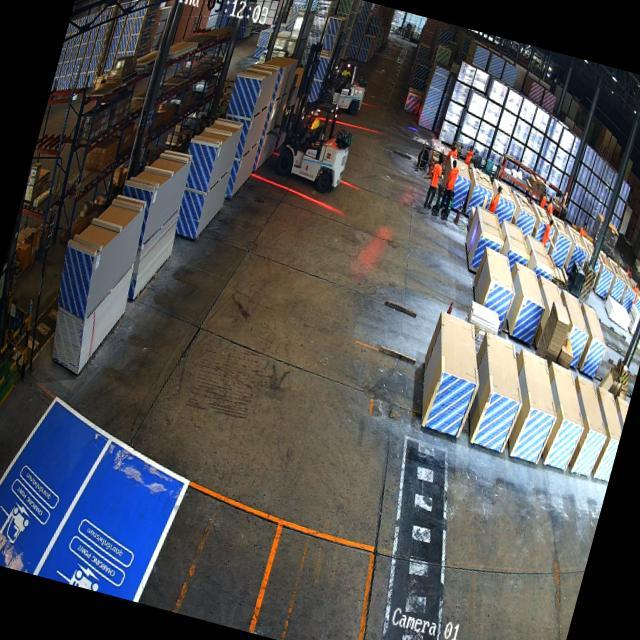driver: (297, 106, 326, 149), (335, 64, 352, 90)
forklift: (264, 73, 367, 200), (323, 54, 373, 115)
person: (434, 155, 462, 224), (420, 154, 448, 212), (488, 184, 502, 212), (540, 218, 554, 246), (464, 144, 476, 165), (545, 197, 556, 214)
